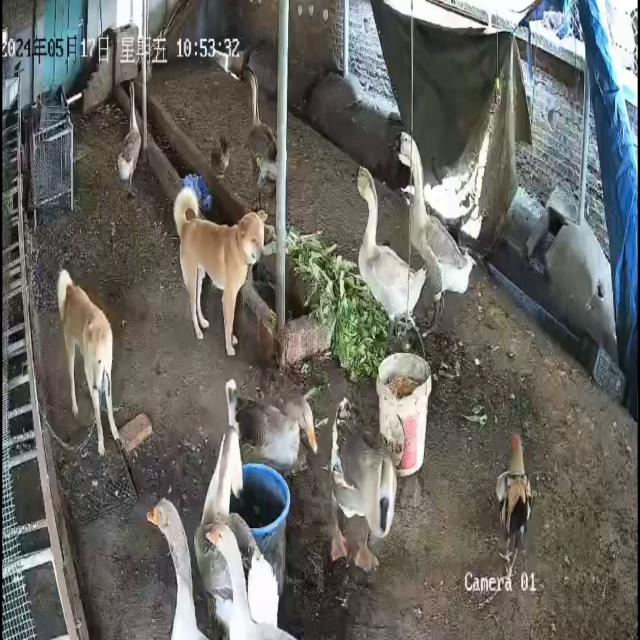dog: (173, 188, 268, 358), (57, 269, 122, 457)
